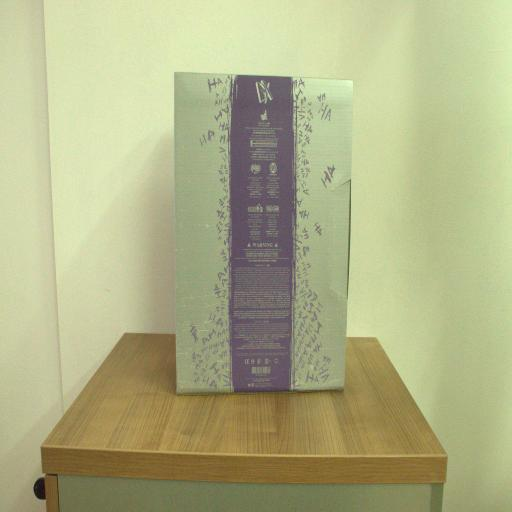Joker: (172, 68, 356, 392)
